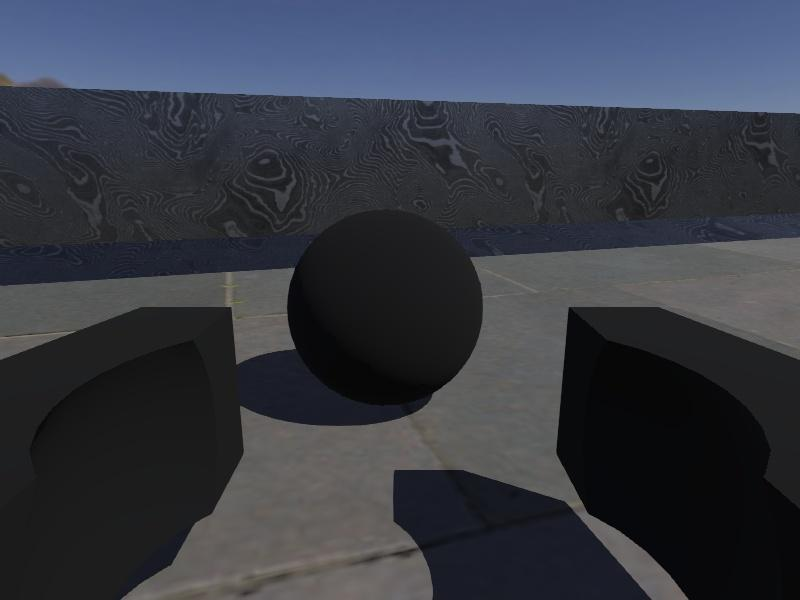black ball: (288, 208, 484, 408)
